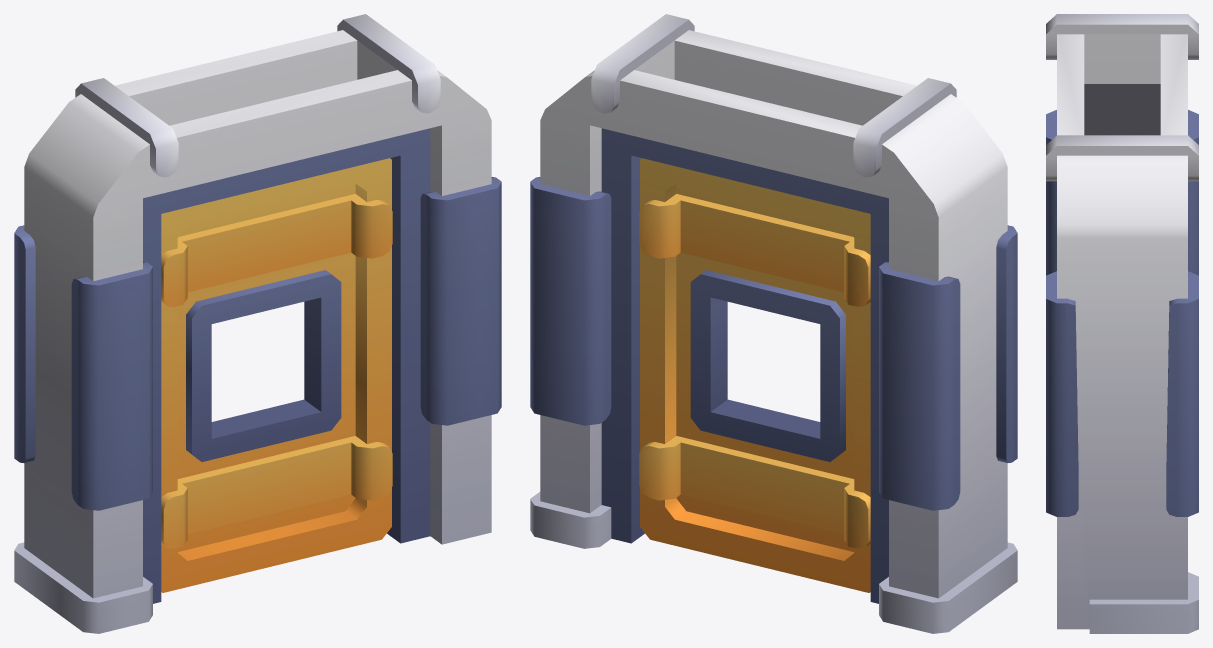
Rendered from os_bulkhead_window.glb.
The picture shows the model from 3 angles, left to right: view 1: azimuth 30°, elevation 25°; view 2: azimuth 150°, elevation 25°; view 3: azimuth 270°, elevation 25°; orthographic projection. The views are drawn at different scales.
Parts seen in each view (by area): view 1: gate-door-window, door; view 2: gate-door-window, door; view 3: gate-door-window.
Boxes of the visible parts, <box> form: gate-door-window: <box>14,14,501,633</box>; door: <box>161,158,392,592</box>; gate-door-window: <box>530,14,1017,633</box>; door: <box>639,158,870,592</box>; gate-door-window: <box>1046,14,1198,633</box>.
Bounding box in the file's own units: 3.61 × 3.97 × 1.2.
1 material, 1 textured.
